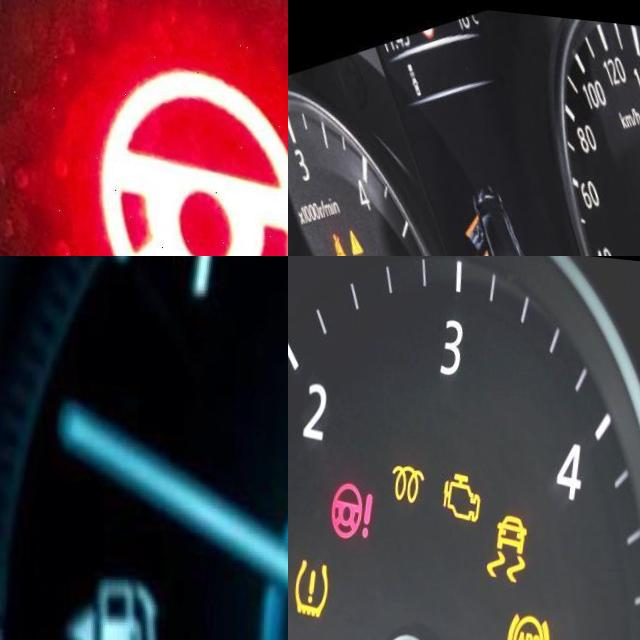Electronic Power Steering: (332, 472, 385, 539)
Electronic Power Steering Warning: (97, 53, 288, 256)
Seat Belt: (330, 229, 353, 256)
